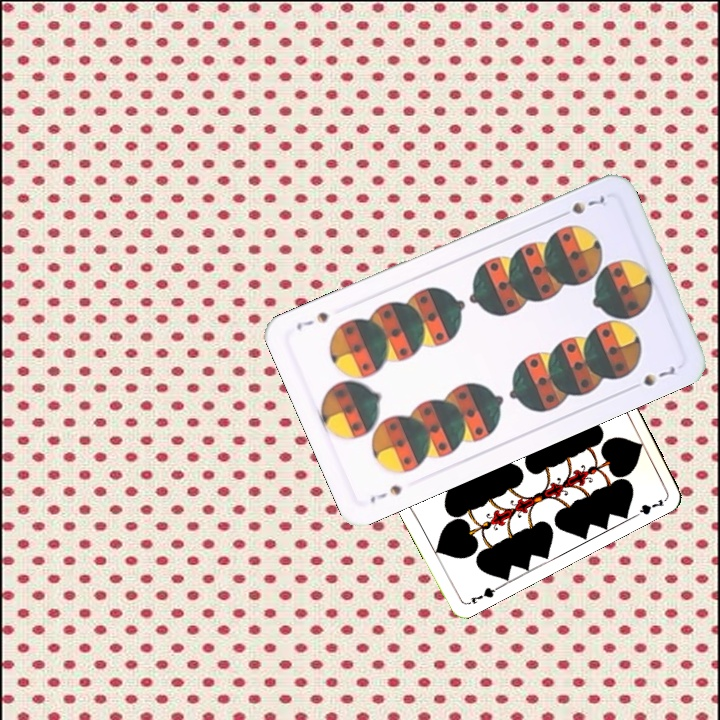G7: (463, 583, 501, 607)
S7: (554, 192, 607, 221), (366, 481, 405, 506)
